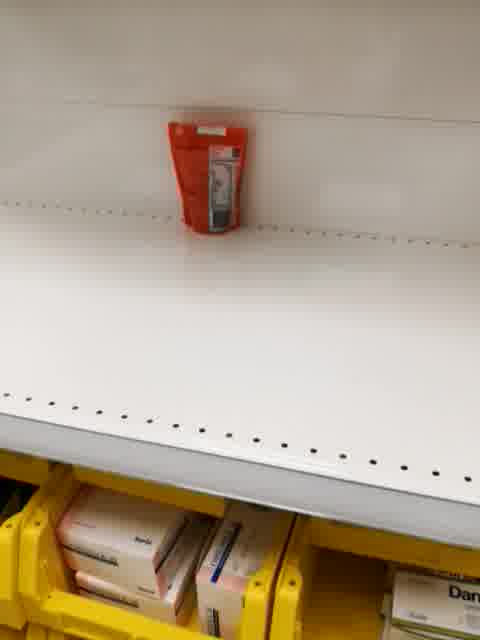whitechia: (165, 116, 250, 239)
